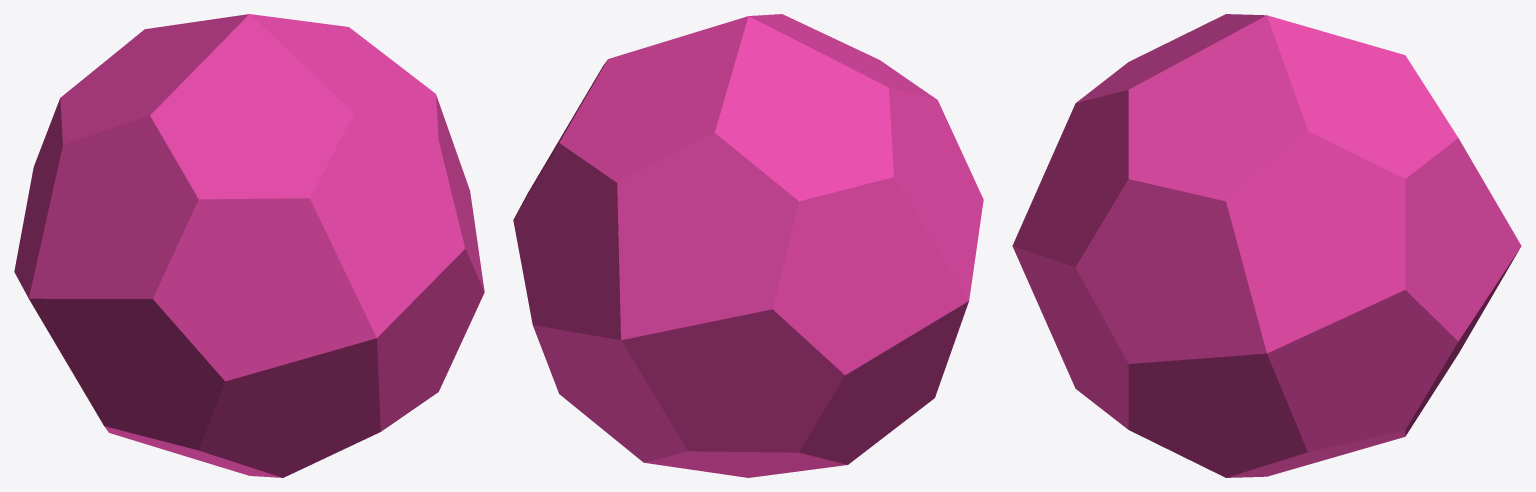
Rendered from pentagonalicositetrahedron.gltf.
The picture shows the model from 3 angles, left to right: view 1: azimuth 30°, elevation 25°; view 2: azimuth 150°, elevation 25°; view 3: azimuth 270°, elevation 25°; orthographic projection.
Parts seen in each view (by area): view 1: Solid.001; view 2: Solid.001; view 3: Solid.001.
Boxes of the visible parts, left/top/right/bottom form: Solid.001: left=14, top=14, right=484, bottom=477; Solid.001: left=513, top=14, right=983, bottom=477; Solid.001: left=1012, top=14, right=1521, bottom=477.
Bounding box in the file's own units: 1.23 × 1.23 × 1.23.
